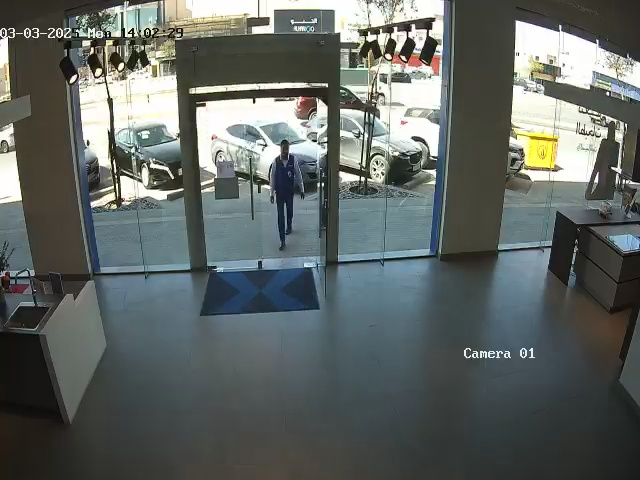employee: (268, 139, 305, 250)
